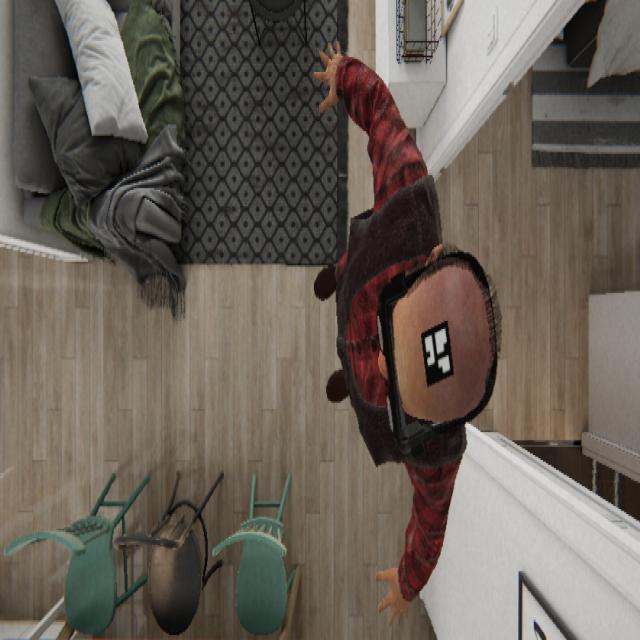AruCO: (420, 316, 454, 388)
Human: (312, 36, 502, 627)
